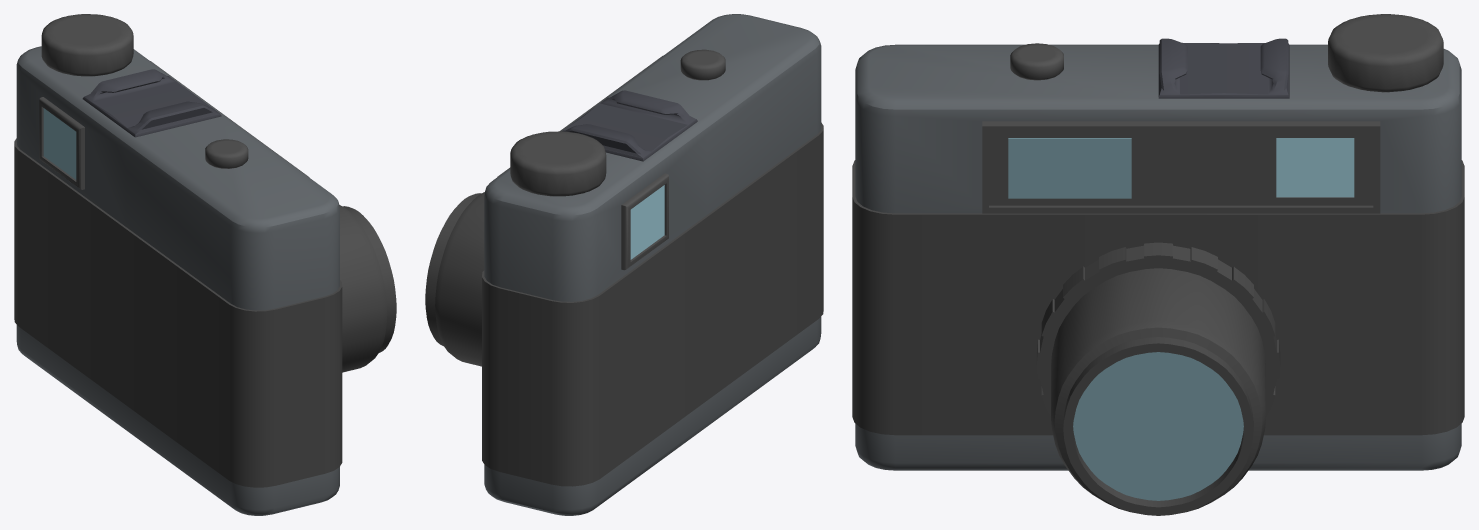
The model's file is camera.fbx.
3 views of the same model, side by side, from view 1: azimuth 30°, elevation 25°; view 2: azimuth 150°, elevation 25°; view 3: azimuth 270°, elevation 25° (orthographic). The views are drawn at different scales.
Parts seen in each view (by area): view 1: Kostka.001, Walec.003, Walec.001, Walec; view 2: Kostka.001, Walec.003, Walec.001, Walec; view 3: Kostka.001, Walec.003, Walec.001, Walec.
Part boxes in pixels (x1,y1,x2,y2): Kostka.001: (14, 46, 342, 515); Walec.003: (339, 205, 396, 372); Walec.001: (41, 14, 133, 76); Walec: (205, 139, 248, 168); Kostka.001: (482, 14, 823, 515); Walec.003: (425, 192, 484, 366); Walec.001: (510, 131, 606, 196); Walec: (680, 49, 725, 80); Kostka.001: (852, 38, 1464, 470); Walec.003: (1036, 242, 1280, 515); Walec.001: (1328, 14, 1443, 92); Walec: (1010, 43, 1063, 80).
Size of the model in its own units: 227 by 297 by 404.
